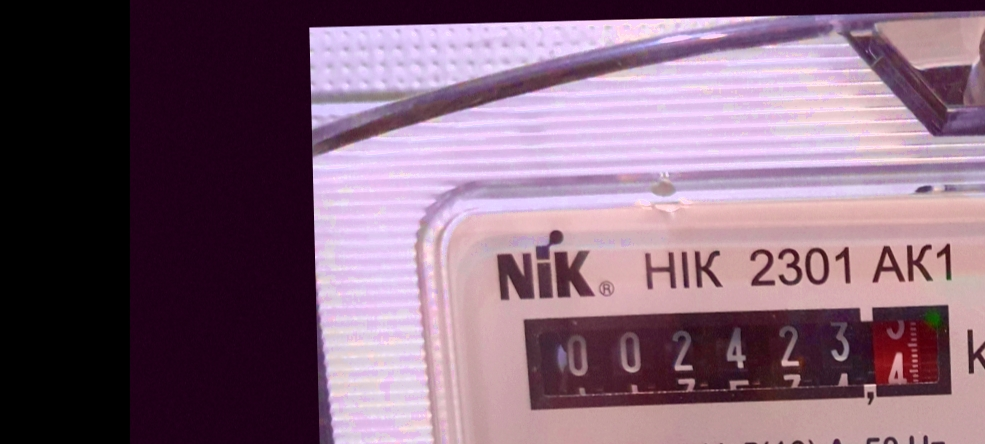0: (566, 330, 594, 379), (619, 329, 645, 374)
2: (671, 326, 698, 373), (778, 323, 803, 369)
3: (829, 318, 854, 363), (887, 316, 909, 340)
4: (725, 324, 749, 370), (886, 348, 912, 386)
screen: (515, 293, 968, 422)
